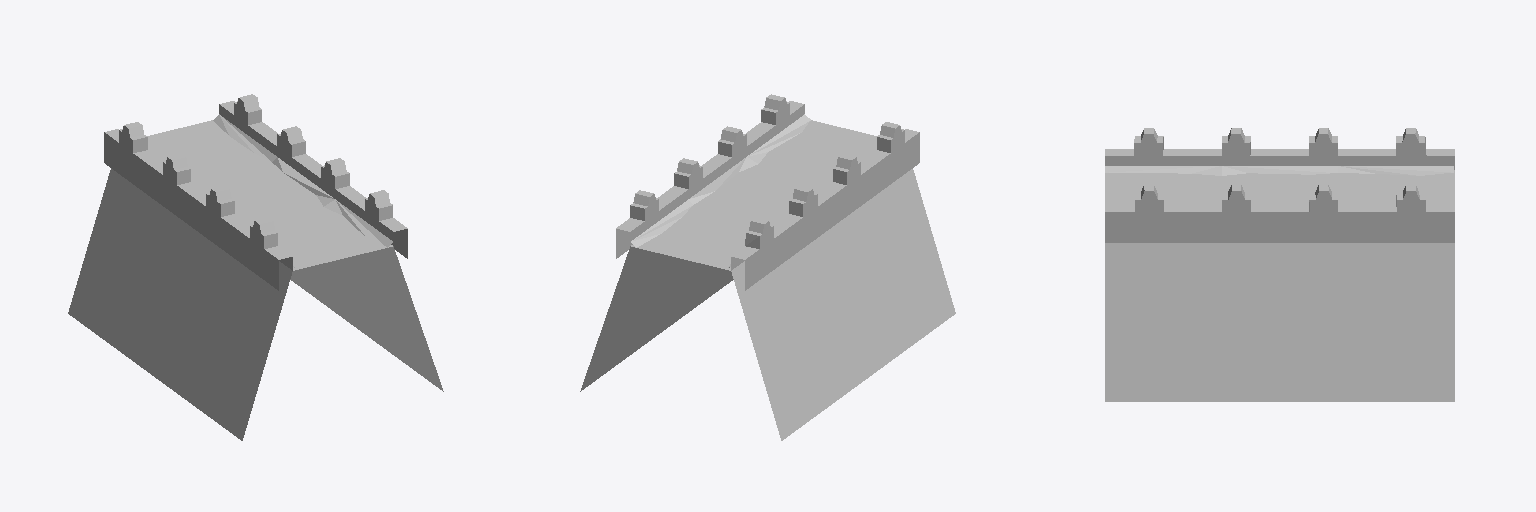
File: templeStraightVert_prefab.obj
3 views of the same model, side by side, from view 1: azimuth 30°, elevation 25°; view 2: azimuth 150°, elevation 25°; view 3: azimuth 270°, elevation 25° (orthographic).
Parts seen in each view (by area): view 1: Object81-Pivot; view 2: Object81-Pivot; view 3: Object81-Pivot.
Boxes of the visible parts, <box> form: Object81-Pivot: <box>68,94,443,440</box>; Object81-Pivot: <box>580,94,955,440</box>; Object81-Pivot: <box>1105,128,1454,401</box>.
Bounding box in the file's own units: 40 × 36.77 × 60.